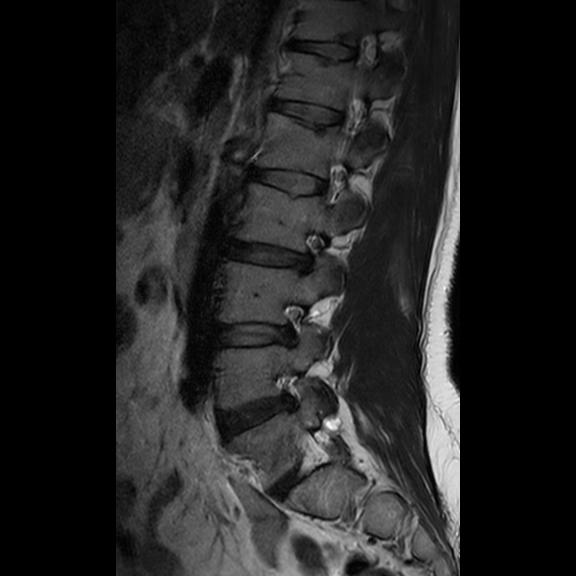RFS2: (267, 290, 318, 360), (285, 219, 333, 288)
